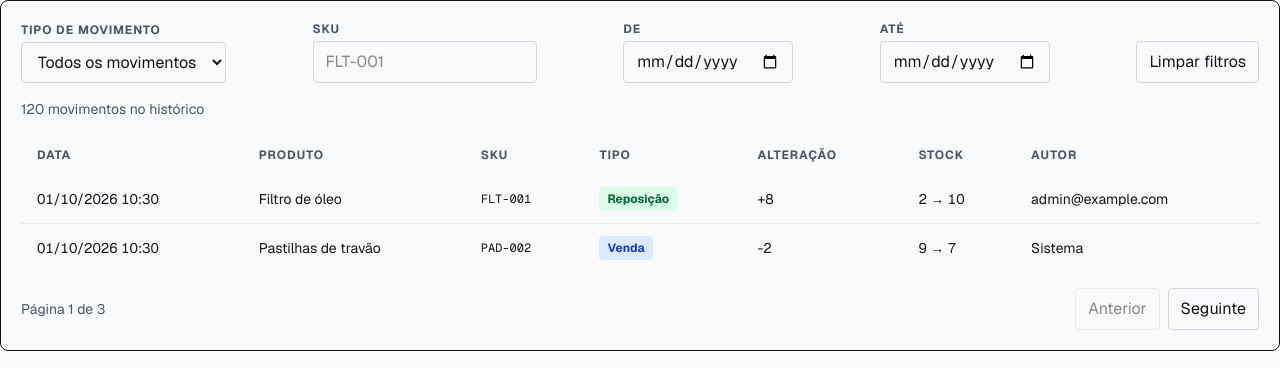
Admin Inventory Movements Client › navega entre páginas com os botões anterior/seguinte
expect the text "120 movimentos no histórico" is shown: met, box [21,100,204,118]
expect the text "Página 1 de 3" is shown: met, box [21,299,105,319]
Click the button named "Página seguinte": (1213, 309) [1168,288,1259,330]
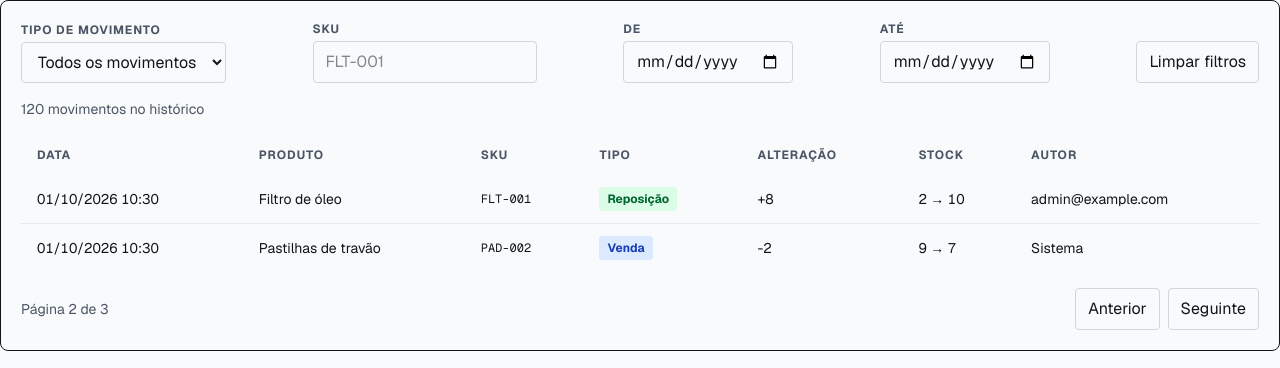
expect the text "Página 2 de 3" is shown: met, box [21,299,109,319]
expect the button named "Página anterior" is enabled: met, box [1075,288,1160,330]
